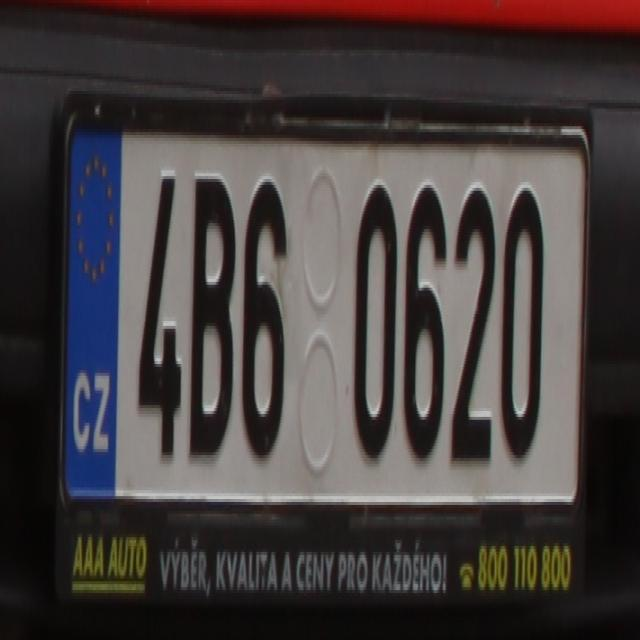0: (351, 176, 399, 455), (498, 182, 544, 444)
2: (450, 182, 496, 467)
4: (132, 173, 181, 470)
6: (239, 176, 288, 455), (403, 170, 448, 455)
B: (189, 158, 236, 461)
